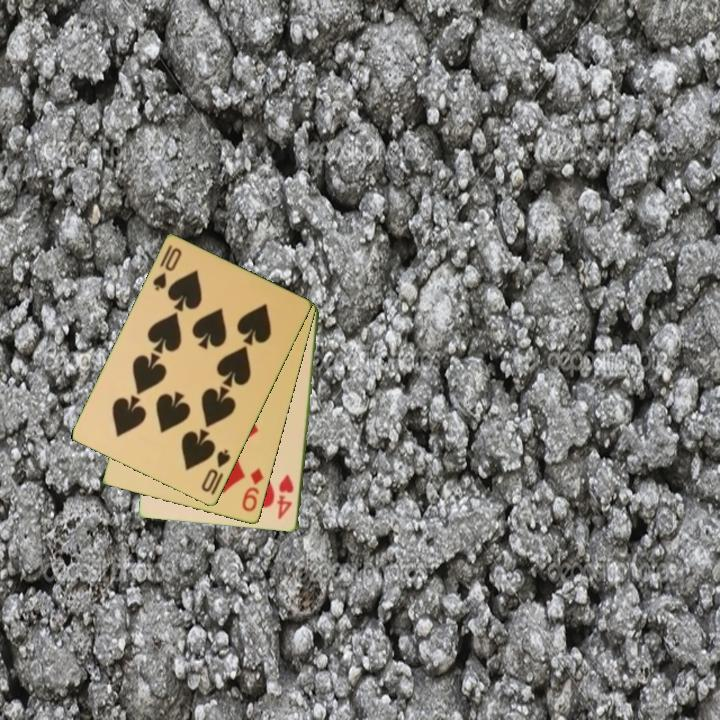10s: (149, 242, 185, 294), (198, 446, 234, 496)
4h: (275, 471, 297, 522)
9d: (239, 465, 267, 515)
